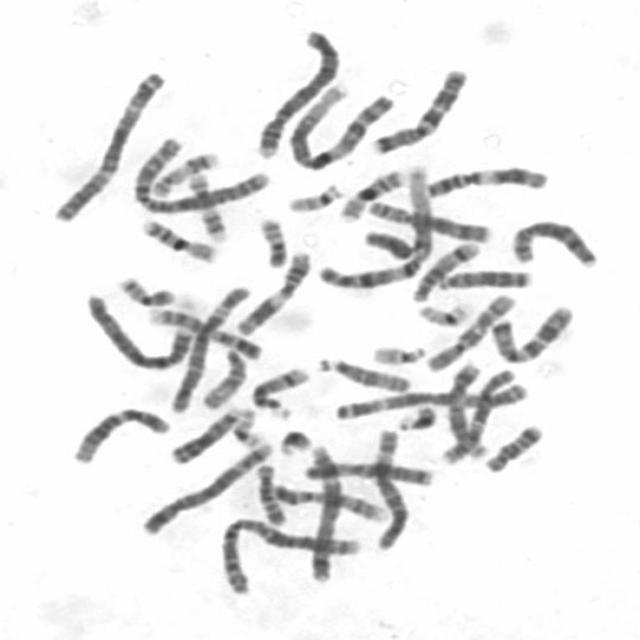A1: (311, 159, 439, 292), (280, 78, 398, 172)
A2: (210, 509, 358, 596), (126, 131, 272, 215)
A3: (46, 62, 170, 223), (328, 376, 530, 423)
B4: (248, 21, 342, 160), (78, 284, 197, 372)
B5: (134, 433, 276, 536), (300, 439, 344, 584)
C10: (432, 361, 518, 466), (419, 287, 518, 373)
C11: (227, 243, 315, 337), (417, 158, 551, 199)
C12: (65, 400, 174, 466), (438, 356, 491, 462)
C6: (160, 277, 254, 416), (365, 421, 412, 551)
C7: (363, 60, 471, 156), (482, 297, 577, 365)
C8: (360, 193, 495, 244), (504, 212, 601, 269)
C9: (142, 301, 267, 361), (264, 475, 390, 524)
D13: (162, 400, 246, 466), (430, 261, 535, 292)
D14: (404, 235, 483, 302), (242, 360, 312, 419)
D15: (310, 349, 414, 394), (194, 340, 250, 410)
E16: (132, 210, 221, 264), (330, 163, 410, 223)
E17: (146, 144, 224, 198), (181, 166, 229, 242)
E18: (477, 416, 546, 473), (248, 456, 289, 526)
F19: (410, 294, 476, 327), (224, 401, 266, 450)
F20: (110, 268, 178, 308), (252, 210, 290, 268)
G21: (390, 398, 439, 432), (270, 421, 316, 457)
G22: (279, 176, 346, 214), (364, 336, 430, 366)
X: (298, 454, 438, 488)
Y: (356, 222, 416, 260)
